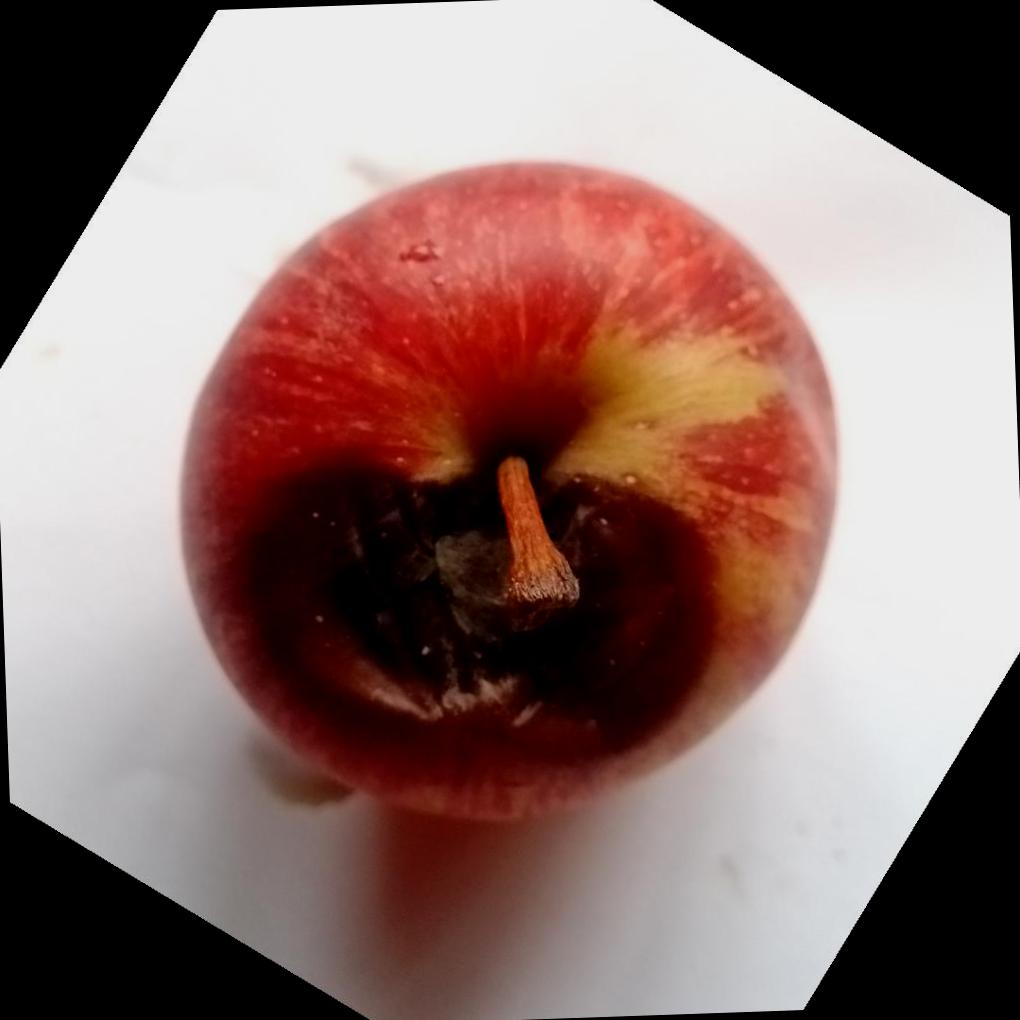FreshOrange: (173, 160, 845, 831)
